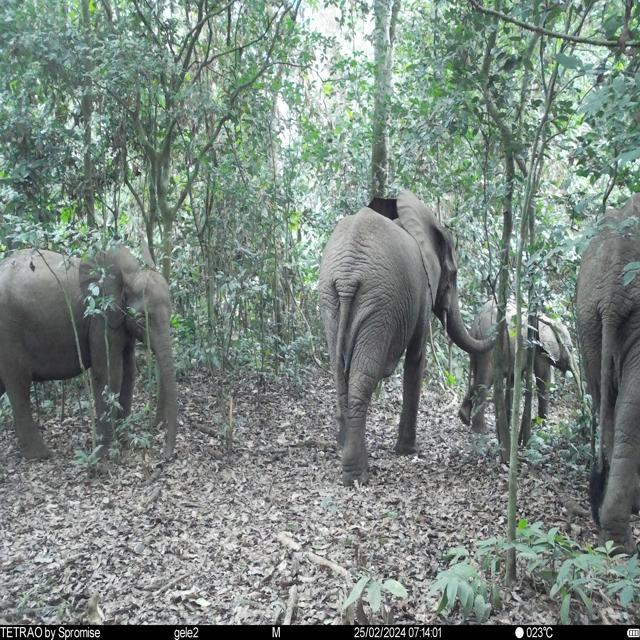calf: (458, 301, 581, 435)
ear: (78, 240, 140, 332), (396, 189, 443, 307), (364, 197, 400, 226)
elephant: (314, 186, 497, 488), (0, 238, 184, 468), (573, 183, 640, 560)
